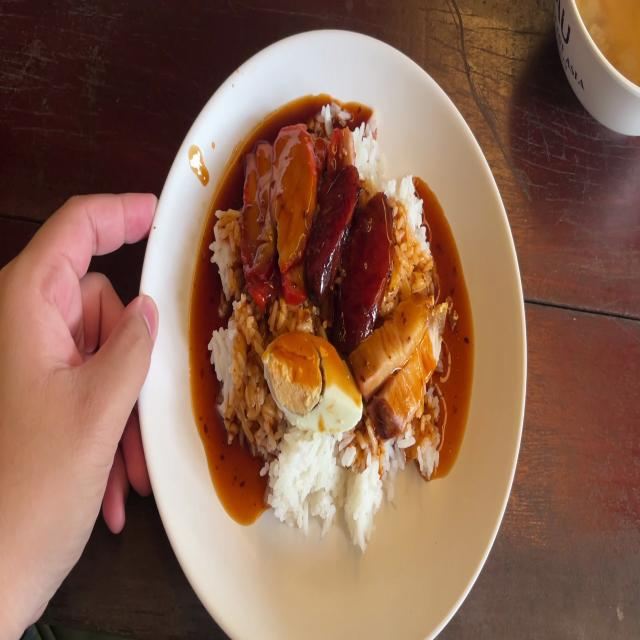01boiled_egg: (264, 332, 365, 435)
01chainese_sausage: (314, 176, 390, 337), (308, 173, 358, 300), (344, 212, 393, 333)
01crispy_pork: (360, 294, 453, 425), (384, 305, 451, 433), (355, 292, 434, 388)
01red_pork: (245, 126, 318, 300), (277, 127, 312, 291), (241, 140, 274, 286)
01red_pork_and_crispy_pork: (213, 100, 451, 526)
01rice: (253, 429, 384, 533), (208, 304, 263, 432), (393, 174, 436, 295)
